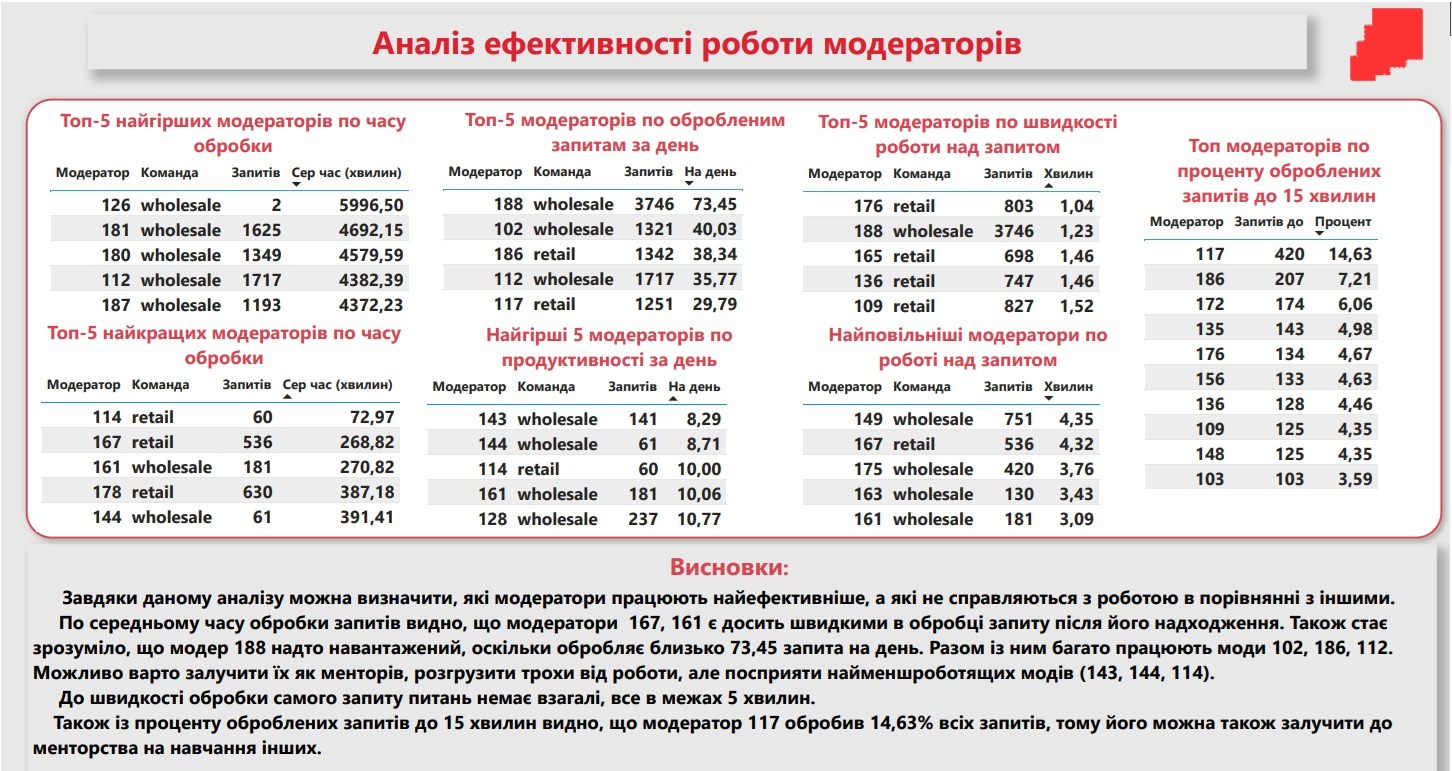

Layout of this report page (visuals, bound fields, positions):
{"tool":"powerbi","page":{"name":"Top moderators","canvas":[1450,800],"ordinal":4},"visuals":[{"type":"textbox","box":[87.1,12.4,1220.3,54.4],"z":0},{"type":"image","box":[1322.8,0,127.5,83.9],"z":1000},{"type":"shape","box":[15.8,88,1434.8,457],"z":2000,"group":"g1"},{"type":"textbox","box":[26.7,541.7,1410,248.3],"z":2000},{"type":"group","id":"g1","title":"Group 12","box":[15.8,88,1434.5,457.6],"z":3000},{"type":"tableEx","title":"Топ-5 найкращих модераторів по часу обробки","fields":{"Values":["events.moderator","events.team","events.RequestsCount","events.Середній час очікування (хвилин)"]},"box":[35.2,316.8,376.7,213],"z":4000},{"type":"tableEx","title":"Топ-5 модераторів по обробленим запитам за день","fields":{"Values":["events.moderator","events.team","events.RequestsCount","events.AverageRequestsPerDay"]},"box":[436.5,103.8,376.7,213],"z":5000},{"type":"tableEx","title":"Топ-5 найгірших модераторів по часу обробки","fields":{"Values":["events.moderator","events.team","events.RequestsCount","events.Середній час очікування (хвилин)"]},"box":[43.9,105.2,376.7,213],"z":5000,"group":"g1"},{"type":"tableEx","title":"Найгірші 5 модераторів по продуктивності за день","fields":{"Values":["events.moderator","events.team","events.RequestsCount","events.AverageRequestsPerDay"]},"box":[420.7,318.6,376.7,213],"z":6000},{"type":"tableEx","title":"Топ-5 модераторів по швидкості роботи над запитом","fields":{"Values":["events.moderator","events.team","events.RequestsCount","events.AverageHandleTime_Minutes"]},"box":[797.3,105.6,341.5,213],"z":7000},{"type":"tableEx","title":"Найповільніші модератори по роботі над запитом","fields":{"Values":["events.moderator","events.team","events.RequestsCount","events.AverageHandleTime_Minutes"]},"box":[797.3,318.6,341.5,213],"z":8000},{"type":"tableEx","title":"Топ модераторів по проценту оброблених запитів до 15 хвилин ","fields":{"Values":["events.moderator","events.Requests_15min","events.Percent_15min"]},"box":[1138.8,130.3,281.6,371.4],"z":9000}]}

Visuals, with their boxes on the page's 1450x800 design canvas (x1, y1, x2, y2). These are canvas units, not pixel positions in the 1452x771 screenshot, which may show the page scaled, cropped or inside an application window:
textbox: (87, 12, 1307, 67)
image: (1323, 0, 1450, 84)
shape: (16, 88, 1451, 545)
textbox: (27, 542, 1437, 790)
"Group 12" group: (16, 88, 1450, 546)
"Топ-5 найкращих модераторів по часу обробки" tableEx: (35, 317, 412, 530)
"Топ-5 модераторів по обробленим запитам за день" tableEx: (436, 104, 813, 317)
"Топ-5 найгірших модераторів по часу обробки" tableEx: (44, 105, 421, 318)
"Найгірші 5 модераторів по продуктивності за день" tableEx: (421, 319, 797, 532)
"Топ-5 модераторів по швидкості роботи над запитом" tableEx: (797, 106, 1139, 319)
"Найповільніші модератори по роботі над запитом" tableEx: (797, 319, 1139, 532)
"Топ модераторів по проценту оброблених запитів до 15 хвилин " tableEx: (1139, 130, 1420, 502)
